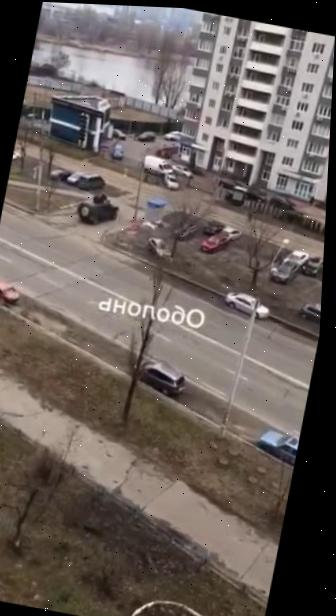armored_car: (74, 190, 121, 228)
car: (128, 354, 189, 398), (255, 426, 301, 466), (221, 289, 272, 321), (268, 256, 301, 287), (198, 229, 230, 257), (144, 234, 173, 262), (299, 253, 324, 279), (297, 300, 321, 326), (0, 278, 21, 307), (268, 193, 297, 211), (218, 225, 242, 243), (47, 167, 72, 183), (170, 162, 193, 177), (161, 172, 180, 190), (65, 169, 85, 186), (136, 128, 156, 143), (109, 143, 125, 160), (110, 128, 126, 139), (11, 149, 20, 162)
